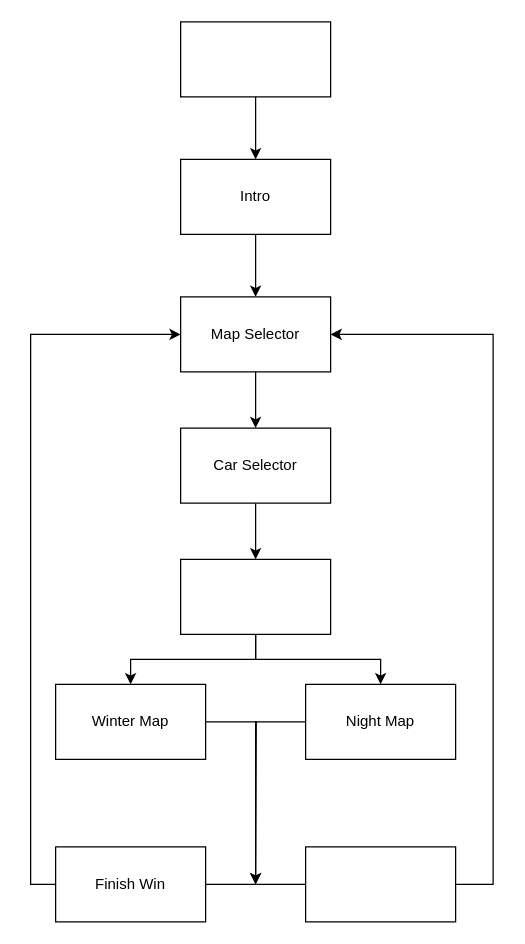
Image size: 525x944. Some labels were removed from this diagram. The shapes that lost their labels are listed below. From the top down, each one's centre as x and y in pixels, then its label:
At (255,59): "Video Intro".
At (255,596): "Help".
At (380,884): "Finish Lose".
